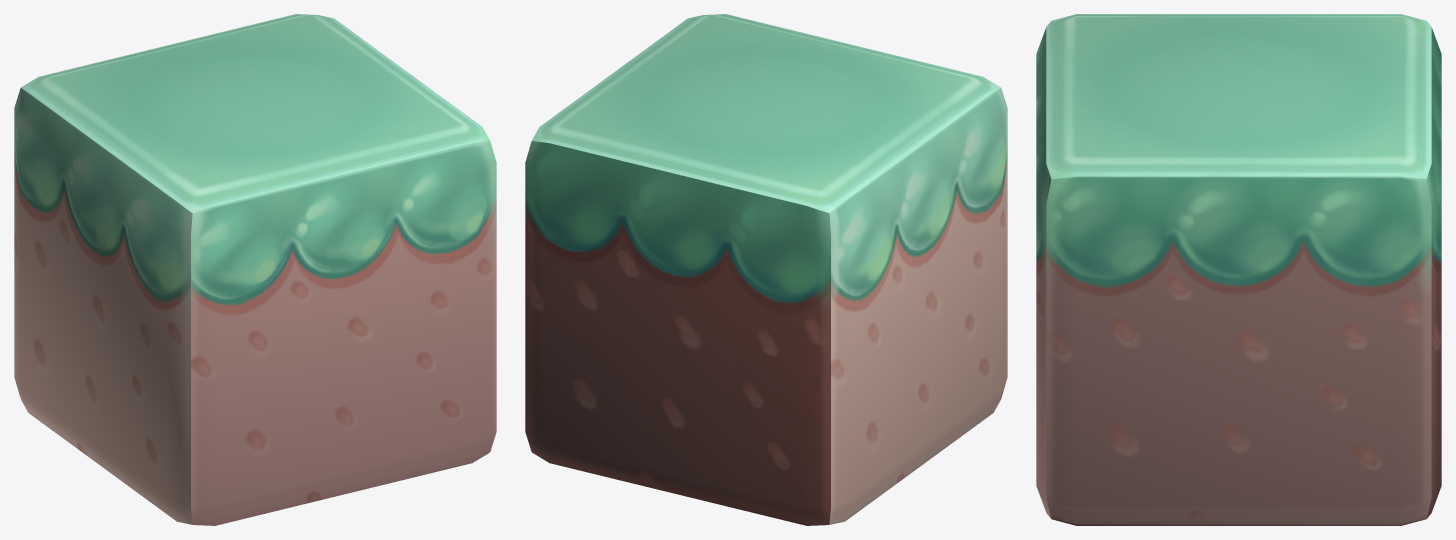
The model's file is Normal_B2.FBX.
The picture shows the model from 3 angles, left to right: view 1: azimuth 30°, elevation 25°; view 2: azimuth 150°, elevation 25°; view 3: azimuth 270°, elevation 25°; orthographic projection. The views are drawn at different scales.
Parts seen in each view (by area): view 1: Normal_B2; view 2: Normal_B2; view 3: Normal_B2.
Boxes of the visible parts, left/top/right/bottom form: Normal_B2: left=14, top=14, right=496, bottom=525; Normal_B2: left=525, top=14, right=1007, bottom=525; Normal_B2: left=1036, top=14, right=1441, bottom=525.
Bounding box in the file's own units: 10 × 10 × 10.
